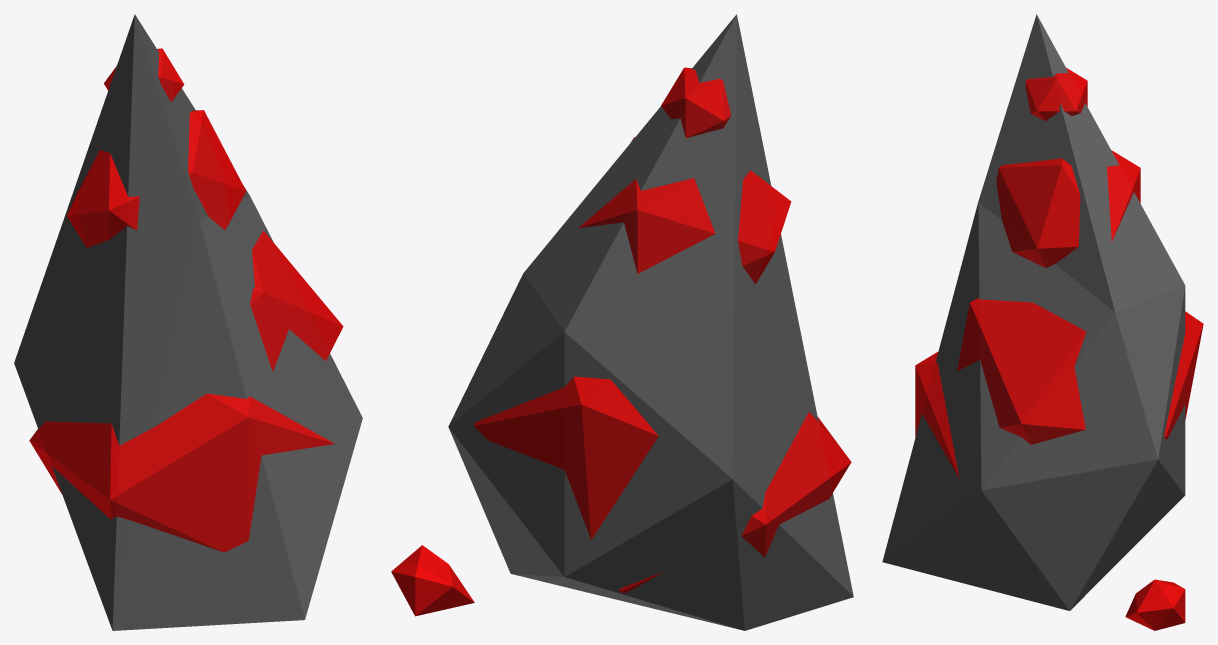
The model's file is Stone_Red.fbx.
The picture shows the model from 3 angles, left to right: view 1: azimuth 30°, elevation 25°; view 2: azimuth 150°, elevation 25°; view 3: azimuth 270°, elevation 25°; orthographic projection. The views are drawn at different scales.
Parts seen in each view (by area): view 1: Stone, Solide_platonicien, Solide_platonicien_2_2, Solide_platonicien_1, Solide_platonicien_2; view 2: Stone, Solide_platonicien_1, Solide_platonicien_2_2, Solide_platonicien, Solide_platonicien_3, Solide_platonicien_2; view 3: Stone, Solide_platonicien_1, Solide_platonicien_2_2, Solide_platonicien, Solide_platonicien_2, Solide_platonicien_3.
Part boxes in pixels (left/top/right/bottom): Stone: left=14, top=14, right=362, bottom=630; Solide_platonicien: left=29, top=393, right=334, bottom=552; Solide_platonicien_2_2: left=66, top=110, right=246, bottom=247; Solide_platonicien_1: left=250, top=230, right=343, bottom=371; Solide_platonicien_2: left=104, top=48, right=184, bottom=101; Stone: left=448, top=14, right=853, bottom=630; Solide_platonicien_1: left=474, top=376, right=658, bottom=539; Solide_platonicien_2_2: left=578, top=137, right=791, bottom=284; Solide_platonicien: left=619, top=412, right=851, bottom=592; Solide_platonicien_3: left=391, top=545, right=474, bottom=616; Solide_platonicien_2: left=661, top=67, right=731, bottom=137; Stone: left=882, top=14, right=1185, bottom=610; Solide_platonicien_1: left=957, top=298, right=1203, bottom=444; Solide_platonicien_2_2: left=996, top=150, right=1140, bottom=267; Solide_platonicien: left=915, top=352, right=959, bottom=478; Solide_platonicien_2: left=1025, top=67, right=1087, bottom=121; Solide_platonicien_3: left=1125, top=579, right=1185, bottom=630.
Bounding box in the file's own units: 143 × 245 × 139.
